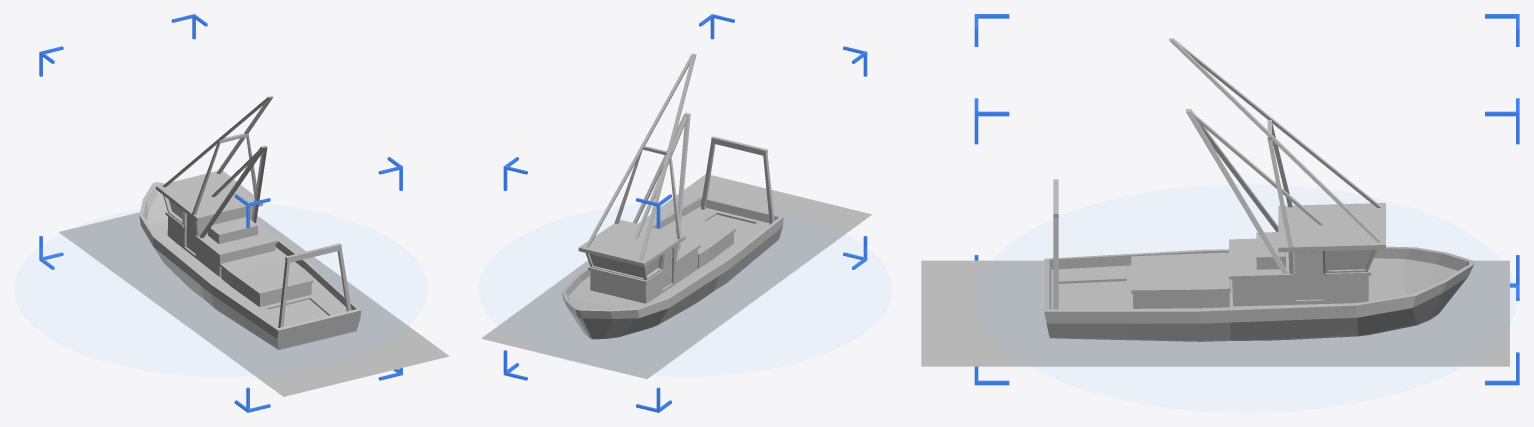
Rendered from FishingBoat.glb.
The picture shows the model from 3 angles, left to right: view 1: azimuth 30°, elevation 25°; view 2: azimuth 150°, elevation 25°; view 3: azimuth 270°, elevation 25°; orthographic projection. The views are drawn at different scales.
Parts seen in each view (by area): view 1: AIS_FishingBoat-A002, SurfaceGraphic_whiteGlow003, BoundingBox; view 2: AIS_FishingBoat-A002, SurfaceGraphic_whiteGlow003, BoundingBox; view 3: AIS_FishingBoat-A002, SurfaceGraphic_whiteGlow003, BoundingBox.
Boxes of the visible parts, x1=… form: AIS_FishingBoat-A002: x1=139, y1=96, x2=361, y2=349; SurfaceGraphic_whiteGlow003: x1=58, y1=212, x2=449, y2=396; BoundingBox: x1=39, y1=14, x2=402, y2=412; AIS_FishingBoat-A002: x1=562, y1=53, x2=783, y2=339; SurfaceGraphic_whiteGlow003: x1=481, y1=174, x2=871, y2=378; BoundingBox: x1=503, y1=14, x2=867, y2=412; AIS_FishingBoat-A002: x1=1044, y1=38, x2=1474, y2=341; SurfaceGraphic_whiteGlow003: x1=921, y1=260, x2=1509, y2=366; BoundingBox: x1=974, y1=14, x2=1519, y2=385.
Bounding box in the file's own units: 13.98 × 8.82 × 15.45.
